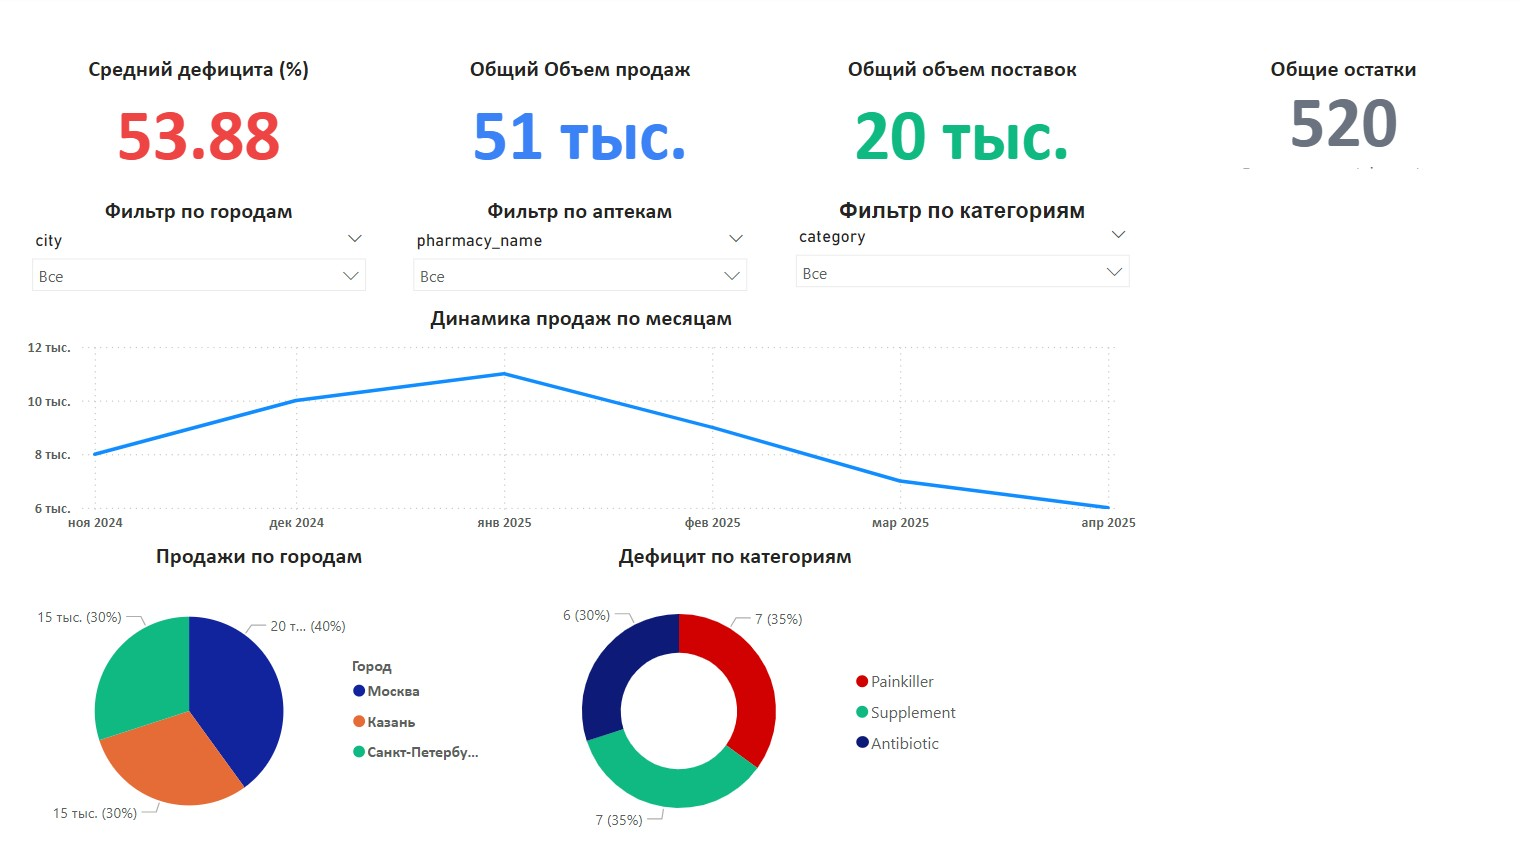

The dashboard page shown, as its layout file describes it:
{"tool":"powerbi","page":{"name":"Общая аналитика","canvas":[1280,720],"ordinal":0},"visuals":[{"type":"card","title":"Средний дефицита (%)","fields":{"Values":["Min(avg_shortage_percent (2).Column1)"]},"box":[20,50,300,100],"z":0},{"type":"card","title":"Общий Объем продаж","fields":{"Values":["Sum(total_sales (2).total_sales)"]},"box":[340,50,300.5,100.2],"z":1000},{"type":"card","title":"Общий объем поставок","fields":{"Values":["Sum(total_supply (2).total_supply)"]},"box":[660,50,300,100],"z":2000},{"type":"card","title":"Общие остатки","fields":{"Values":["Sum(current_inventory (2).current_inventory)"]},"box":[980,50,300,100],"z":3000},{"type":"slicer","title":"Фильтр по городам","fields":{"Values":["pharmacies.city"]},"box":[20,170,300,150],"z":4000},{"type":"slicer","title":"Фильтр по аптекам","fields":{"Values":["pharmacies.pharmacy_name"]},"box":[340,170,300,100],"z":5000},{"type":"slicer","title":"Фильтр по категориям","fields":{"Values":["products.category"]},"box":[660,170,300,100],"z":6000},{"type":"pieChart","title":"Продажи по городам","fields":{"Category":["pharmacies.city"],"Y":["pharmacies.Мера SalesByCity"]},"box":[20.6,459.7,399.3,260.7],"z":7000},{"type":"donutChart","title":"Дефицит по категориям","fields":{"Category":["metrics_summary.category"],"Y":["CountNonNull(metrics_summary.shortage_percent)"]},"box":[419.9,459.7,399.3,260.7],"z":8000},{"type":"lineChart","title":"Динамика продаж по месяцам","fields":{"Category":["sales_by_month.month.Изменение.Иерархия дат.Год","sales_by_month.month.Изменение.Иерархия дат.Квартал","sales_by_month.month.Изменение.Иерархия дат.Месяц","sales_by_month.month.Изменение.Иерархия дат.День"],"Y":["Sum(sales_by_month.total_quantity)"]},"box":[20.6,259.3,940,200.3],"z":9000}]}

Visuals, with their boxes in screenshot pixels (x1, y1, x2, y2), scaled from the page's 1280x720 canvas onto the 1520x848 screenshot:
"Средний дефицита (%)" card: 24/59/380/177
"Общий Объем продаж" card: 404/59/761/177
"Общий объем поставок" card: 784/59/1140/177
"Общие остатки" card: 1164/59/1519/177
"Фильтр по городам" slicer: 24/200/380/377
"Фильтр по аптекам" slicer: 404/200/760/318
"Фильтр по категориям" slicer: 784/200/1140/318
"Продажи по городам" pieChart: 24/541/499/847
"Дефицит по категориям" donutChart: 499/541/973/847
"Динамика продаж по месяцам" lineChart: 24/305/1141/541
